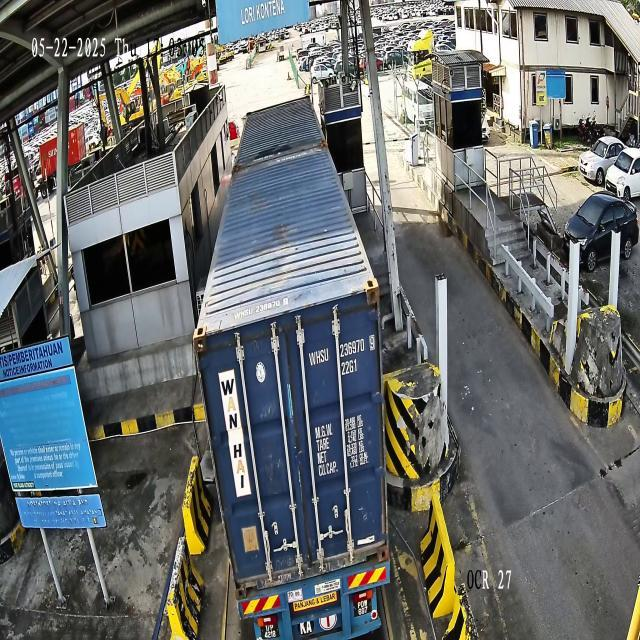ISO: (340, 356, 358, 378)
container_number: (308, 333, 375, 368)
